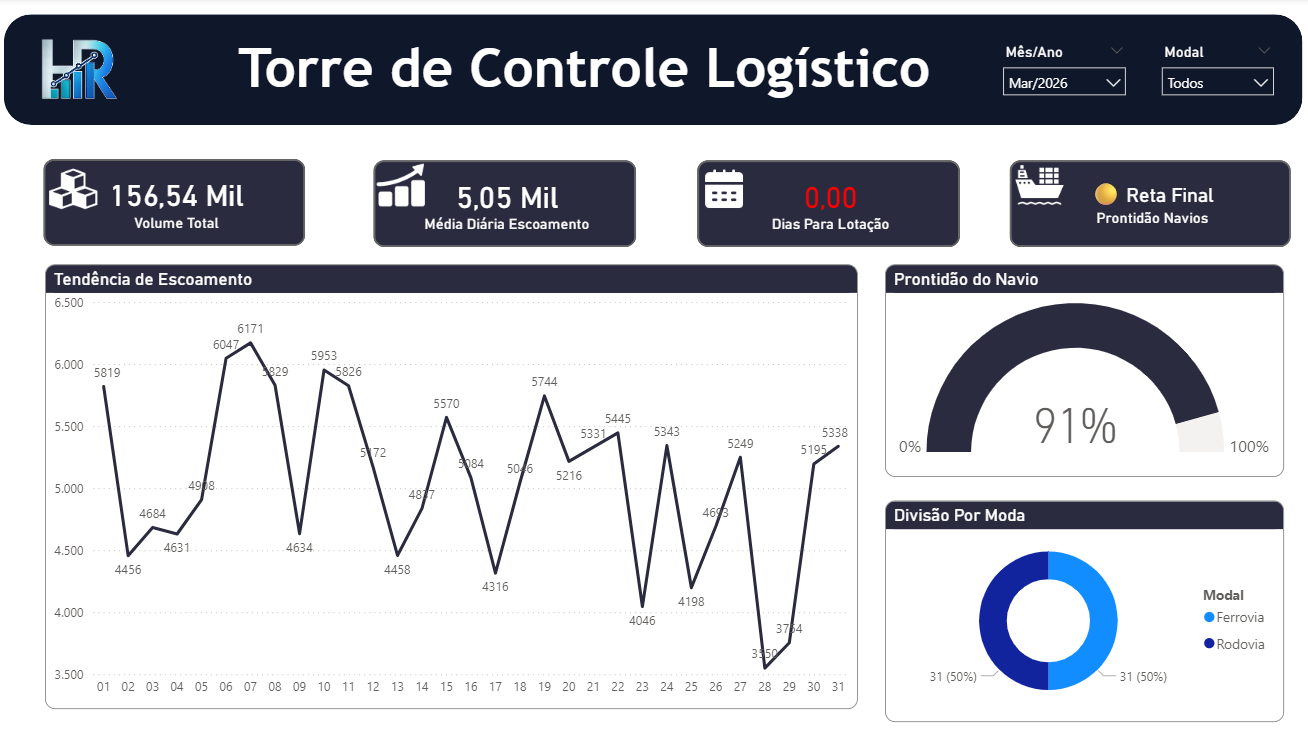

What the dashboard file says about the page in this screenshot:
{"tool":"powerbi","page":{"name":"Página 1","canvas":[1280,720],"ordinal":0},"visuals":[{"type":"shape","box":[4.1,16.5,1270.7,108.4],"z":0},{"type":"textbox","box":[126,31.8,891.4,77],"z":1000},{"type":"image","box":[0,16.5,149.6,108.4],"z":2000},{"type":"slicer","fields":{"Values":["portfolio_logistica dim_calendario.Mes_Ano"]},"box":[970.9,39.1,140.6,63.6],"z":3000},{"type":"slicer","fields":{"Values":["portfolio_logistica fato_outflow.Modal"]},"box":[1126.2,39.1,129.6,63.6],"z":4000},{"type":"cardVisual","fields":{"Data":["Medidas.Total_Escoado_Ton"]},"box":[25.7,140.6,290.8,119.8],"z":5000},{"type":"image","box":[46.5,162.6,50.1,47.7],"z":6000},{"type":"cardVisual","fields":{"Data":["Medidas.Media_Diaria_Escoamento"]},"box":[348.5,141.8,291,119.8],"z":7000},{"type":"image","box":[366.8,159,50.1,47.7],"z":8000},{"type":"cardVisual","fields":{"Data":["Medidas.Dias_Para_Lotação"]},"box":[665.2,141.8,291,119.8],"z":9000},{"type":"image","box":[687.2,162.6,42.8,47.7],"z":10000},{"type":"image","box":[999,164.3,50.1,47.7],"z":11000},{"type":"cardVisual","fields":{"Data":["Medidas.Status_Prontidao_Navio"]},"box":[970.9,141.8,309.4,119.8],"z":12000},{"type":"image","box":[991.7,159,50.1,47.7],"z":13000},{"type":"lineChart","title":"Tendência de Escoamento","fields":{"Category":["portfolio_logistica dim_calendario.Data"],"Y":["Medidas.Media_Diaria_Escoamento"]},"box":[44,260.5,794.8,435.3],"z":14000},{"type":"gauge","fields":{"Y":["Medidas.Prontidao_Navio_Perc"]},"box":[865.8,260.5,390.1,207.9],"z":15000},{"type":"donutChart","title":"Divisão Por Moda","fields":{"Category":["portfolio_logistica fato_outflow.Modal"],"Y":["CountNonNull(portfolio_logistica fato_outflow.Modal)"]},"box":[865.8,491.6,390.1,216.4],"z":16000}]}

Visuals, with their boxes in screenshot pixels (x1, y1, x2, y2), scaled from the page's 1280x720 canvas onto the 1308x733 screenshot:
shape: 4 17 1303 127
textbox: 129 32 1040 111
image: 0 17 153 127
slicer - portfolio_logistica dim_calendario.Mes_Ano: 992 40 1136 105
slicer - portfolio_logistica fato_outflow.Modal: 1151 40 1283 105
cardVisual - Medidas.Total_Escoado_Ton: 26 143 323 265
image: 48 166 99 214
cardVisual - Medidas.Media_Diaria_Escoamento: 356 144 653 266
image: 375 162 426 210
cardVisual - Medidas.Dias_Para_Lotação: 680 144 977 266
image: 702 166 746 214
image: 1021 167 1072 216
cardVisual - Medidas.Status_Prontidao_Navio: 992 144 1307 266
image: 1013 162 1065 210
"Tendência de Escoamento" lineChart: 45 265 857 708
gauge - Medidas.Prontidao_Navio_Perc: 885 265 1283 477
"Divisão Por Moda" donutChart: 885 500 1283 721
